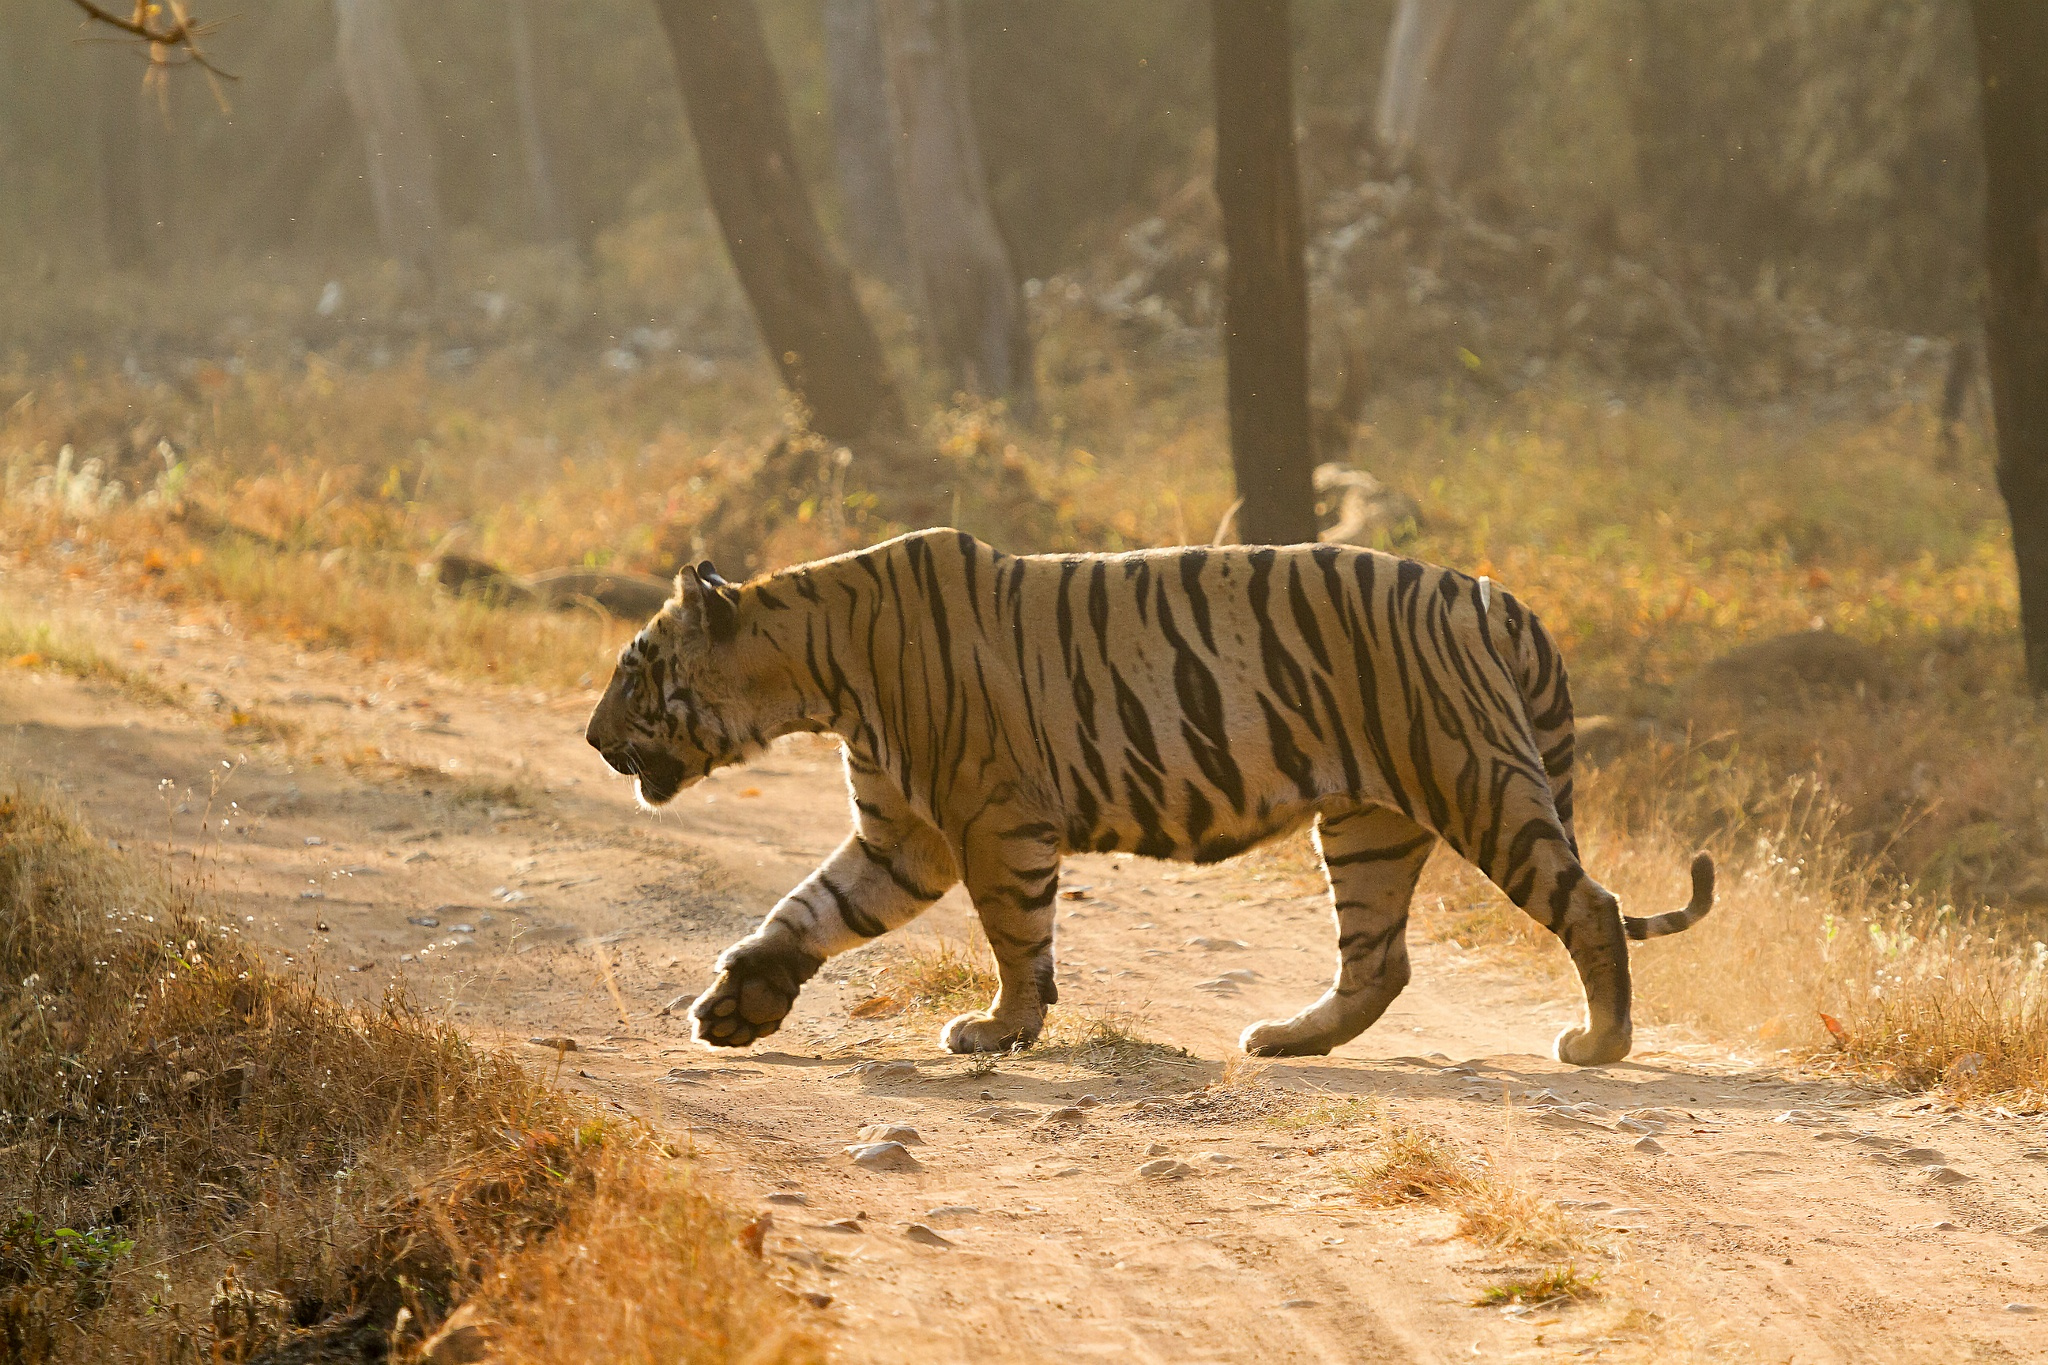tiger: (579, 535, 1754, 1095)
